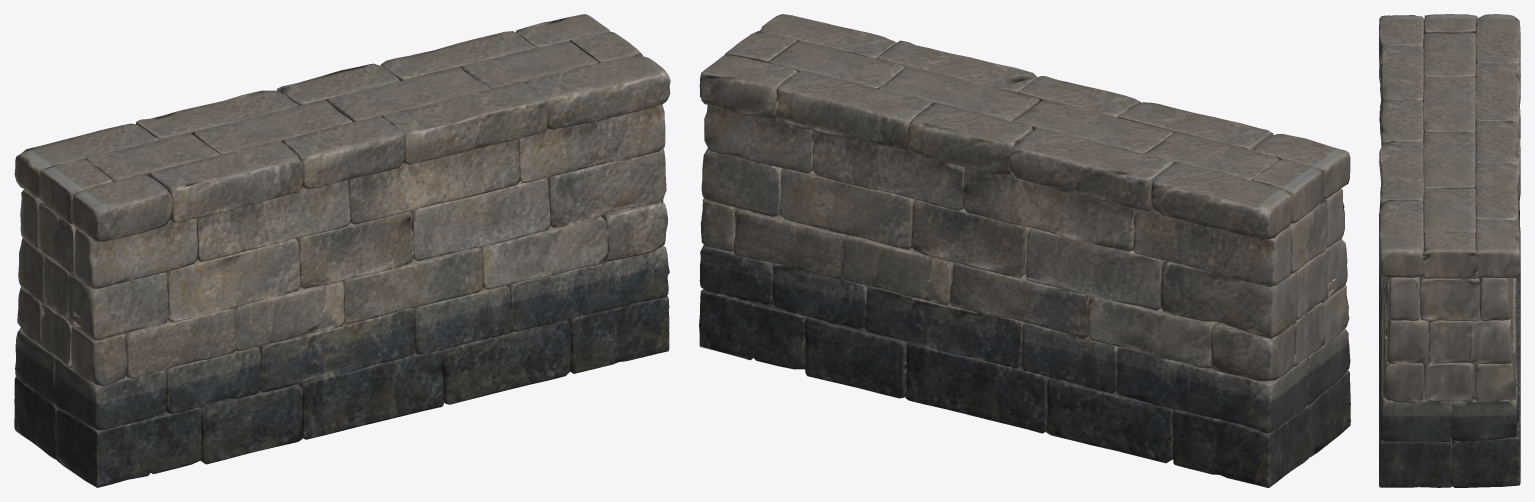
The model's file is ruin_wall.glb.
The picture shows the model from 3 angles, left to right: view 1: azimuth 30°, elevation 25°; view 2: azimuth 150°, elevation 25°; view 3: azimuth 270°, elevation 25°; orthographic projection. The views are drawn at different scales.
Parts seen in each view (by area): view 1: ruin_wall; view 2: ruin_wall; view 3: ruin_wall.
Boxes of the visible parts, left/top/right/bottom form: ruin_wall: left=14, top=14, right=670, bottom=487; ruin_wall: left=699, top=14, right=1350, bottom=487; ruin_wall: left=1379, top=14, right=1520, bottom=487.
Bounding box in the file's own units: 0.9644 × 0.4512 × 0.2422.
1 material, 1 textured.
